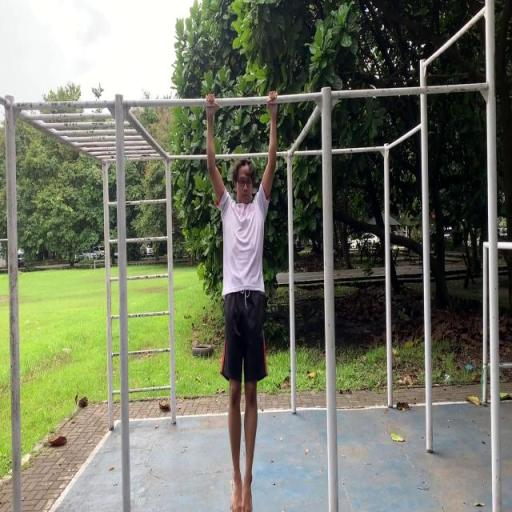Normal_BrenchPress: (205, 90, 279, 512)
